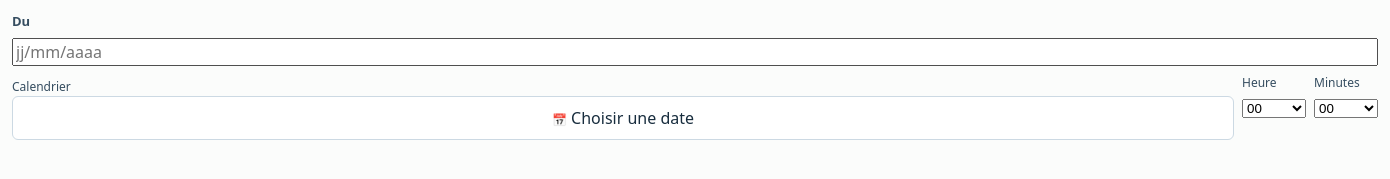
Test: convertit la saisie jj/mm/aaaa au format technique sans perdre l’heure
In the field labelled "Du": x=695, y=52 [12, 38, 1378, 66], type "25/12/2026"
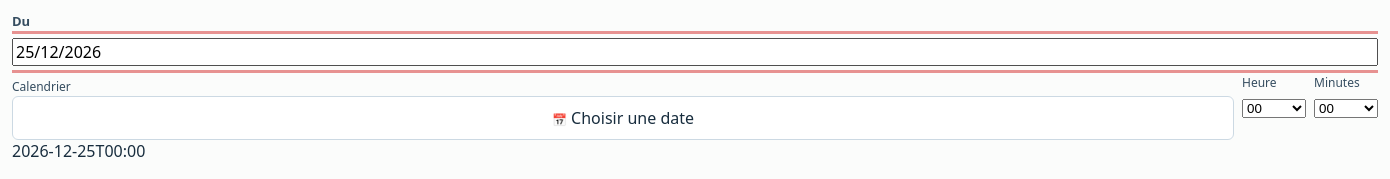
Select "19" in the dropdown named "Heure de Du": x=1274, y=108 [1242, 99, 1306, 118]
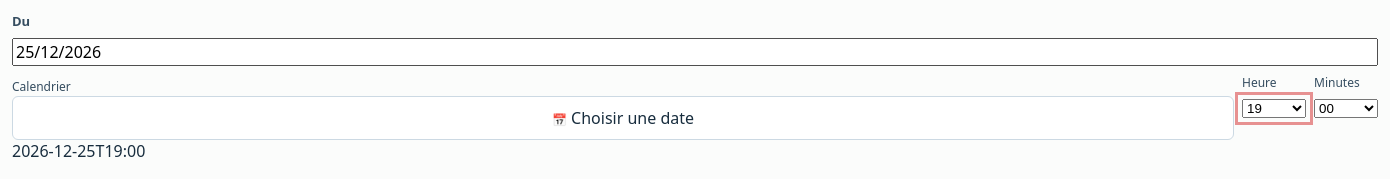
Select "15" in the dropdown named "Minutes de Du": x=1346, y=108 [1314, 99, 1378, 118]
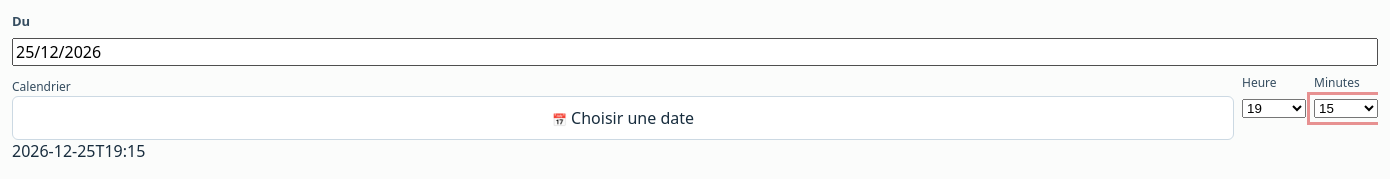
Expected: the text named "Valeur interne" reads "2026-12-25T19:15", [12, 140, 145, 162]
